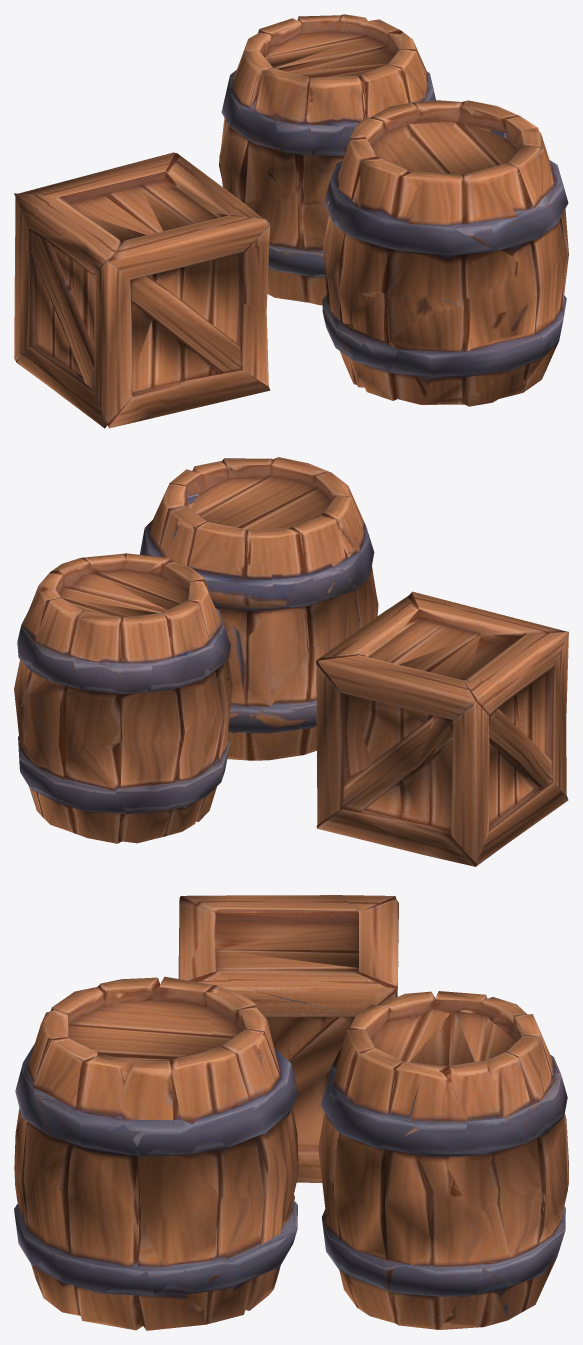
The model's file is barrels.glb.
3 views of the same model, one above another, from view 1: azimuth 30°, elevation 25°; view 2: azimuth 150°, elevation 25°; view 3: azimuth 270°, elevation 25° (orthographic). The views are drawn at different scales.
Parts seen in each view (by area): view 1: barrels; view 2: barrels; view 3: barrels.
Part boxes in pixels (<box>): barrels: <box>14,14,568,428</box>; barrels: <box>14,457,568,866</box>; barrels: <box>14,895,568,1330</box>.
Size of the model in its own units: 2.29 by 1.15 by 2.2.
Materials: 1 (1 with a texture image).
